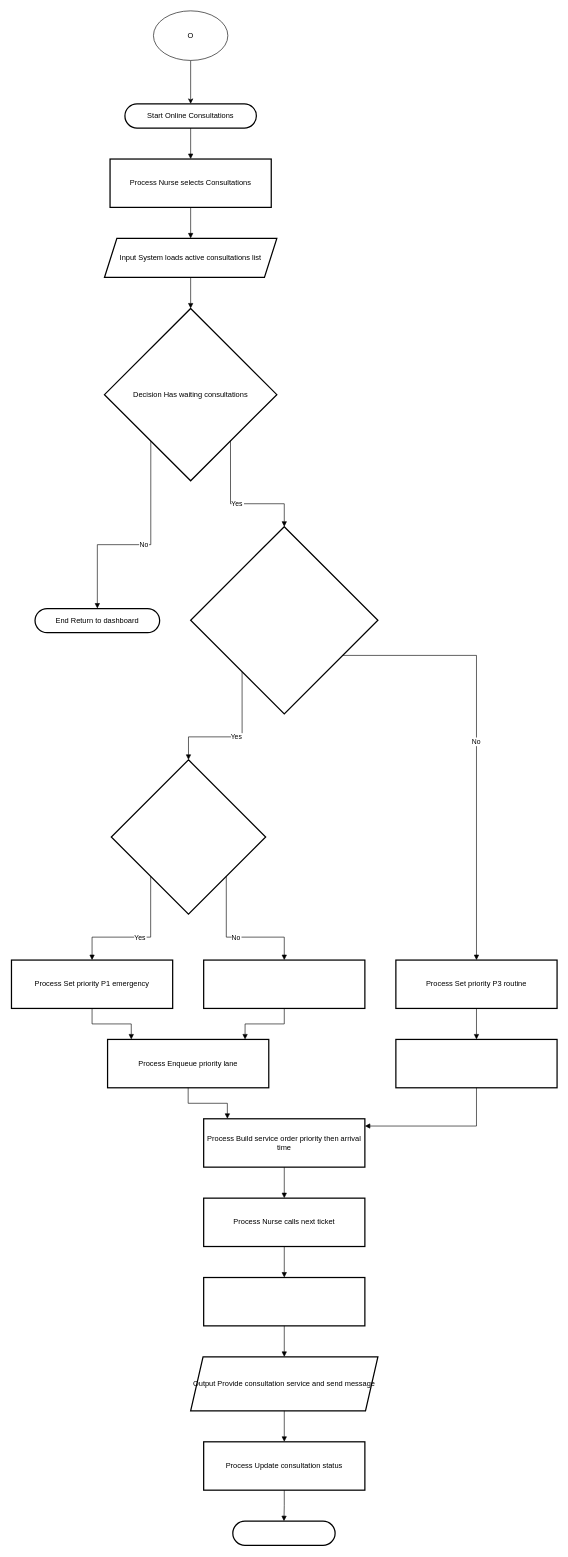
Image size: 568x1557. Some labels were removed from this diagram. Here are the shapes that lost their labels. From the top down, the box of each, then its label:
(190, 526, 378, 714): Decision Is priority category PWD senior pregnant emergency
(110, 759, 266, 914): Decision Is emergency case
(203, 959, 365, 1009): Process Set priority P2 special assistance
(395, 1038, 557, 1088): Process Enqueue normal queue
(203, 1277, 365, 1326): Process Open patient consultation chat
(232, 1520, 335, 1546): End Queue updated
